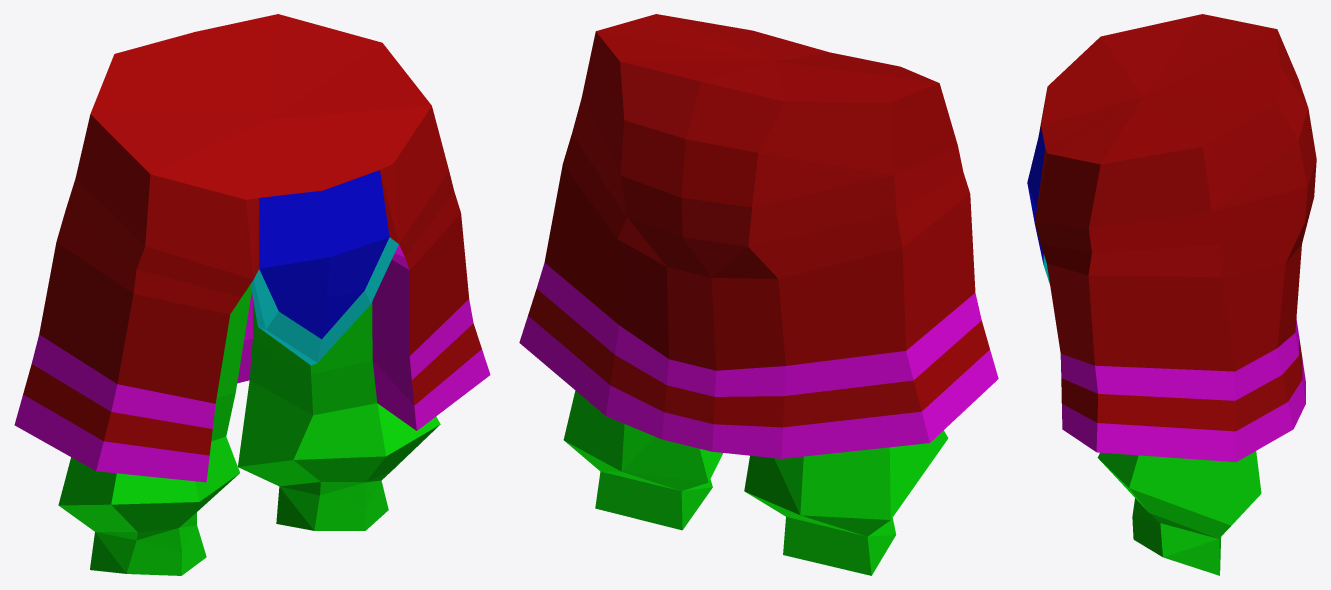
Rendered from Chr_Hips_Male_Static_27.fbx.
The picture shows the model from 3 angles, left to right: view 1: azimuth 30°, elevation 25°; view 2: azimuth 150°, elevation 25°; view 3: azimuth 270°, elevation 25°; orthographic projection. The views are drawn at different scales.
Visible parts, largest first — view 1: Chr_Hips_Male_27; view 2: Chr_Hips_Male_27; view 3: Chr_Hips_Male_27.
Part boxes in pixels (bbox=[...]): Chr_Hips_Male_27: bbox=[14, 14, 490, 575]; Chr_Hips_Male_27: bbox=[519, 14, 998, 575]; Chr_Hips_Male_27: bbox=[1027, 14, 1316, 575].
Bounding box in the file's own units: 49.17 × 55.4 × 32.43.
